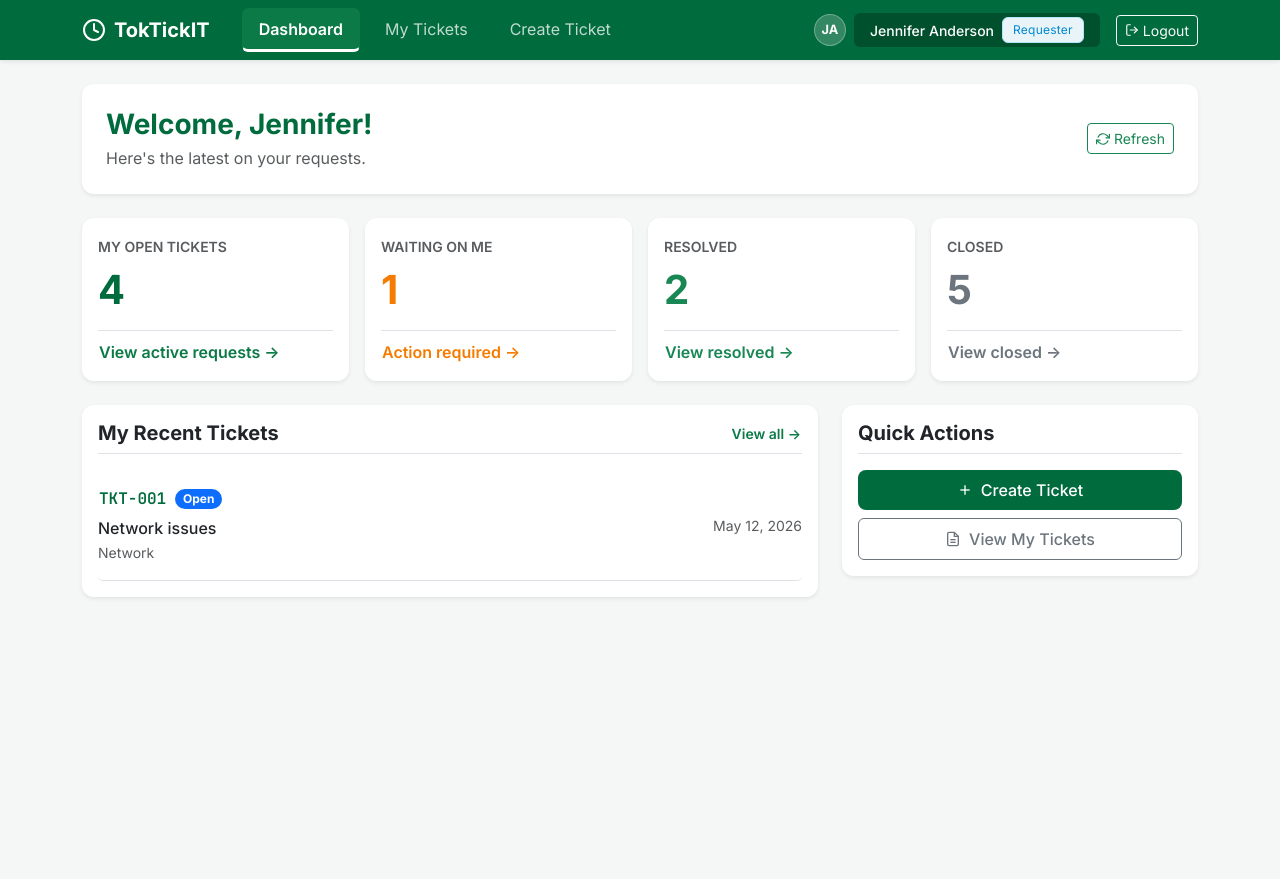
Test: Dashboard Routing & Filter Reset Integration Tests (Issue #4-5, AC-02, AC-10, AC-12) › 4. Brand logo click navigates back to Dashboard tab
Click the button with test id "nav-create-ticket-tab".
click(560, 30)  # box [493,8,628,52]
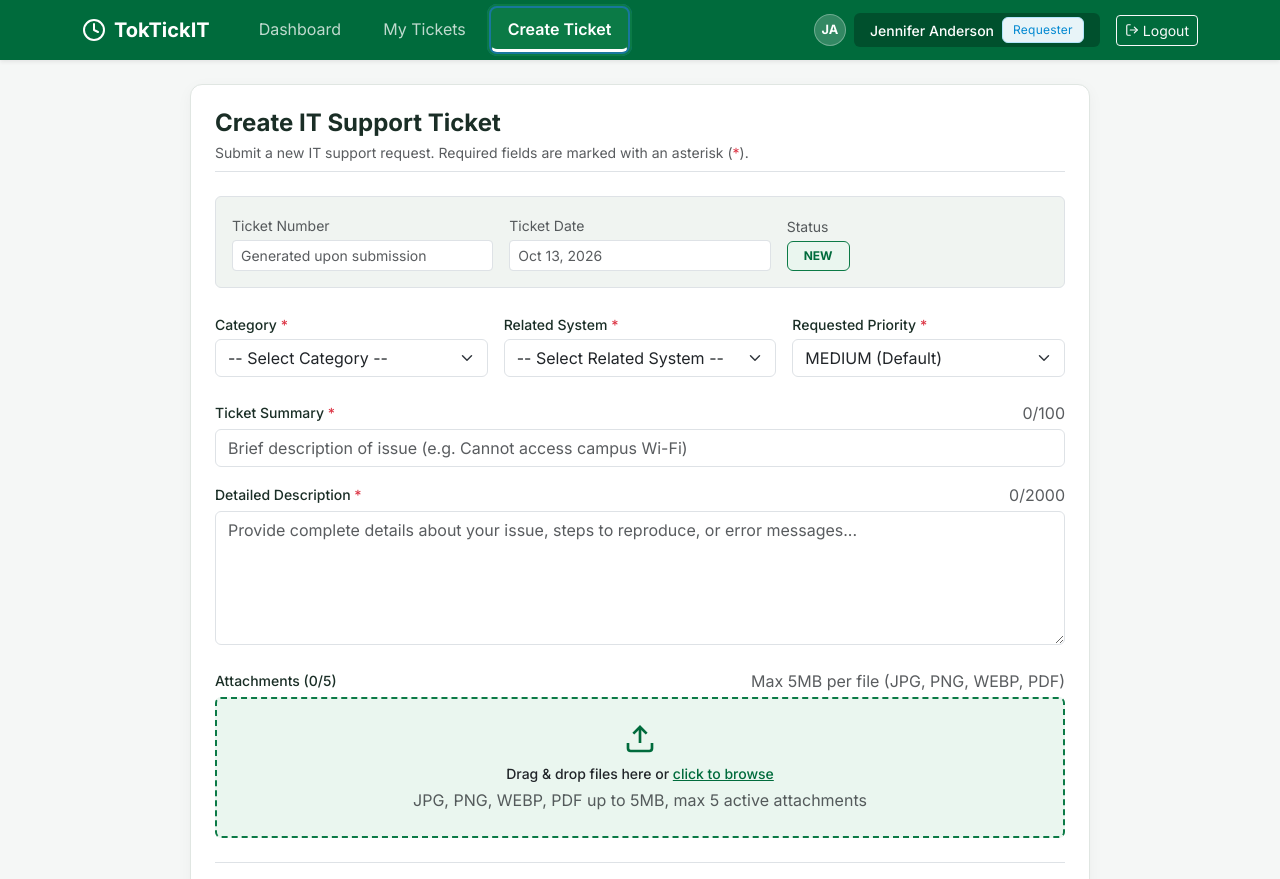
Now the heading "Create IT Support Ticket" is shown, box [215,108,501,137]
Click Brand Logo
Click the link "TokTickIT".
click(146, 30)  # box [82,15,210,45]
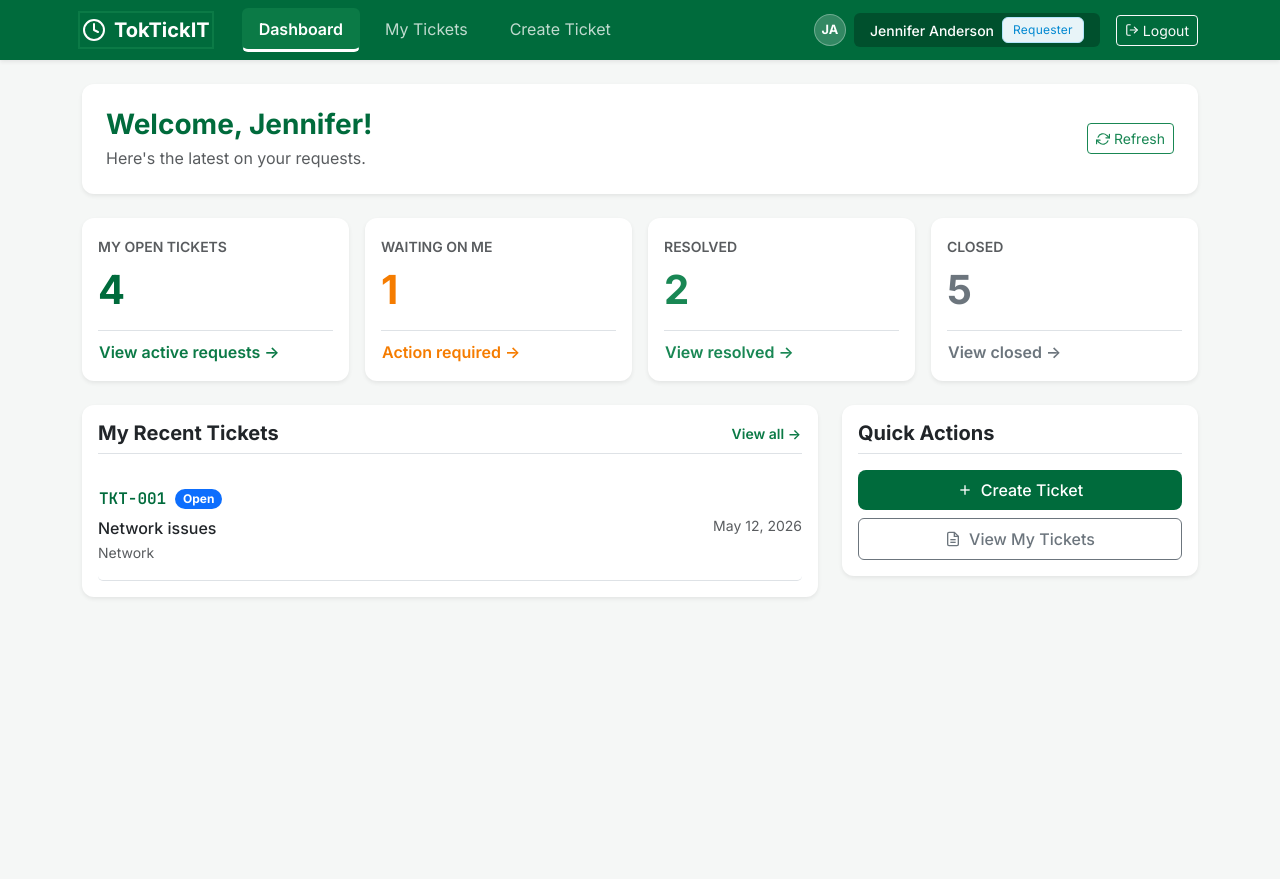
Now the element with test id "requester-dashboard-view" is shown, box [82,84,1198,597]
